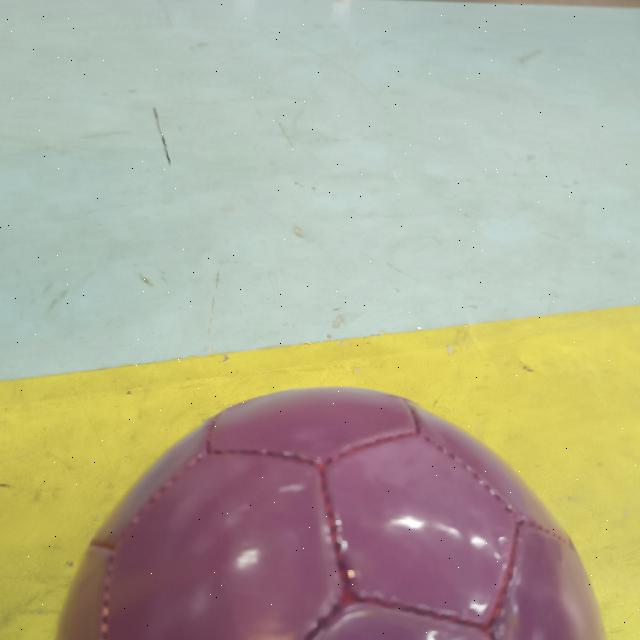P: (43, 382, 614, 640)
